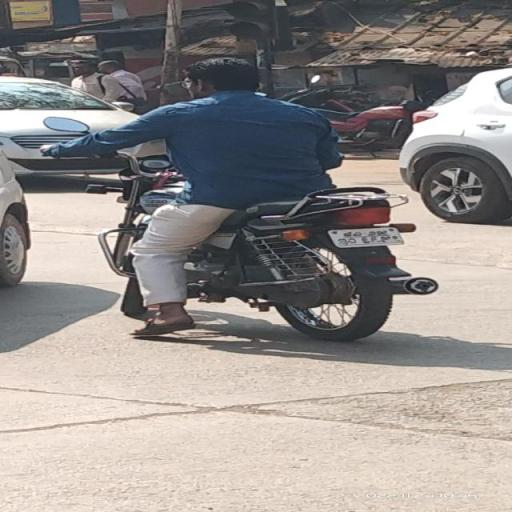bike: (33, 51, 450, 354)
numberplate: (324, 225, 410, 249)
withouthelmet: (186, 58, 254, 94)
